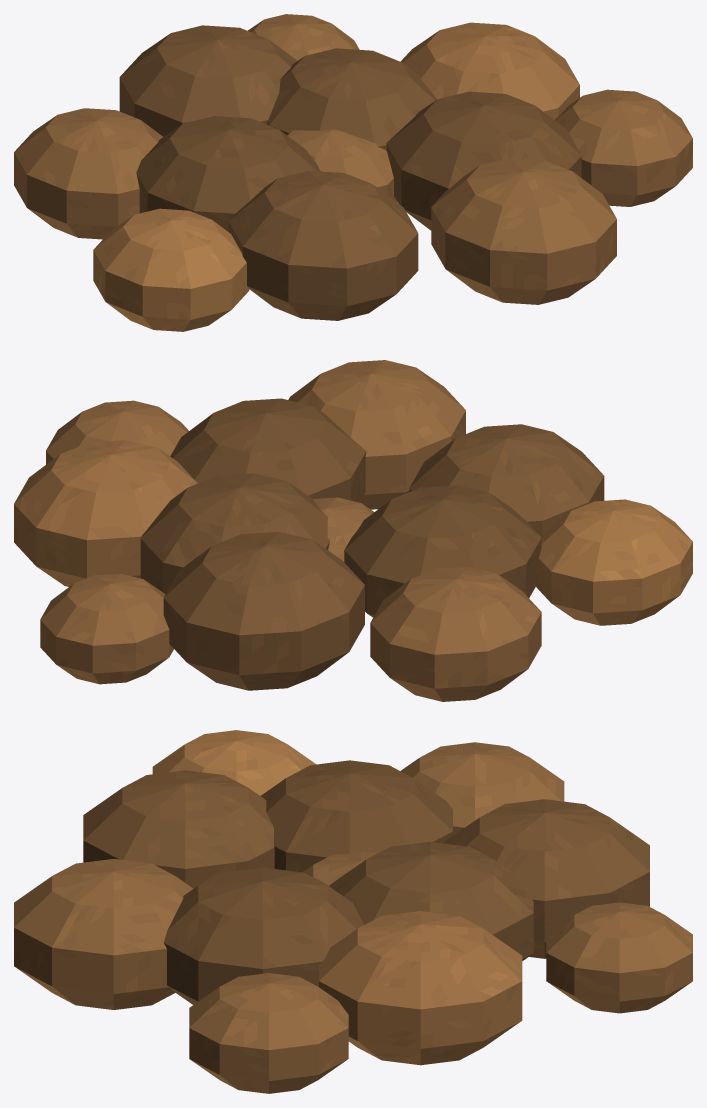
File: pine_nuts.glb
3 renders of one model, top to bottom at view 1: azimuth 30°, elevation 25°; view 2: azimuth 150°, elevation 25°; view 3: azimuth 270°, elevation 25°, orthographic. The views are drawn at different scales.
Parts seen in each view (by area): view 1: block_grain 5, block_grain 8, block_grain 10, block_grain 7, block_grain 3, block_grain 4, block_grain 2, block_grain 11, block_grain 1, block_grain 6, block_grain 0, block_grain 9; view 2: block_grain 4, block_grain 7, block_grain 6, block_grain 10, block_grain 2, block_grain 8, block_grain 3, block_grain 5, block_grain 9, block_grain 1, block_grain 11, block_grain 0; view 3: block_grain 6, block_grain 8, block_grain 3, block_grain 5, block_grain 4, block_grain 11, block_grain 2, block_grain 9, block_grain 1, block_grain 7, block_grain 10, block_grain 0.
Part boxes in pixels (x1,y1,x2,y2): block_grain 5: (228,171,418,320); block_grain 8: (431,158,616,304); block_grain 10: (93,208,249,331); block_grain 7: (14,108,162,239); block_grain 3: (386,91,581,230); block_grain 4: (119,25,297,136); block_grain 2: (136,116,320,231); block_grain 11: (555,89,692,206); block_grain 1: (267,48,436,150); block_grain 6: (400,22,579,119); block_grain 0: (287,129,397,202); block_grain 9: (248,14,359,60); block_grain 4: (163,531,364,690); block_grain 7: (370,566,541,701); block_grain 6: (14,440,197,586); block_grain 10: (536,499,692,625); block_grain 2: (344,485,541,617); block_grain 8: (288,360,465,509); block_grain 3: (170,398,366,502); block_grain 5: (409,424,604,536); block_grain 9: (40,573,173,684); block_grain 1: (140,473,329,594); block_grain 11: (46,400,188,464); block_grain 0: (313,497,374,561); block_grain 6: (319,911,522,1065); block_grain 8: (14,859,193,1009); block_grain 3: (164,867,363,1004); block_grain 5: (83,770,274,888); block_grain 4: (443,799,649,958); block_grain 11: (189,973,348,1093); block_grain 2: (260,760,452,872); block_grain 9: (546,902,692,1013); block_grain 1: (329,842,533,960); block_grain 7: (400,742,564,835); block_grain 10: (152,730,316,795); block_grain 0: (303,852,377,885).
Size of the model in its own units: 0.0569 by 0.0116 by 0.0538.
Materials: 1 (1 with a texture image).
